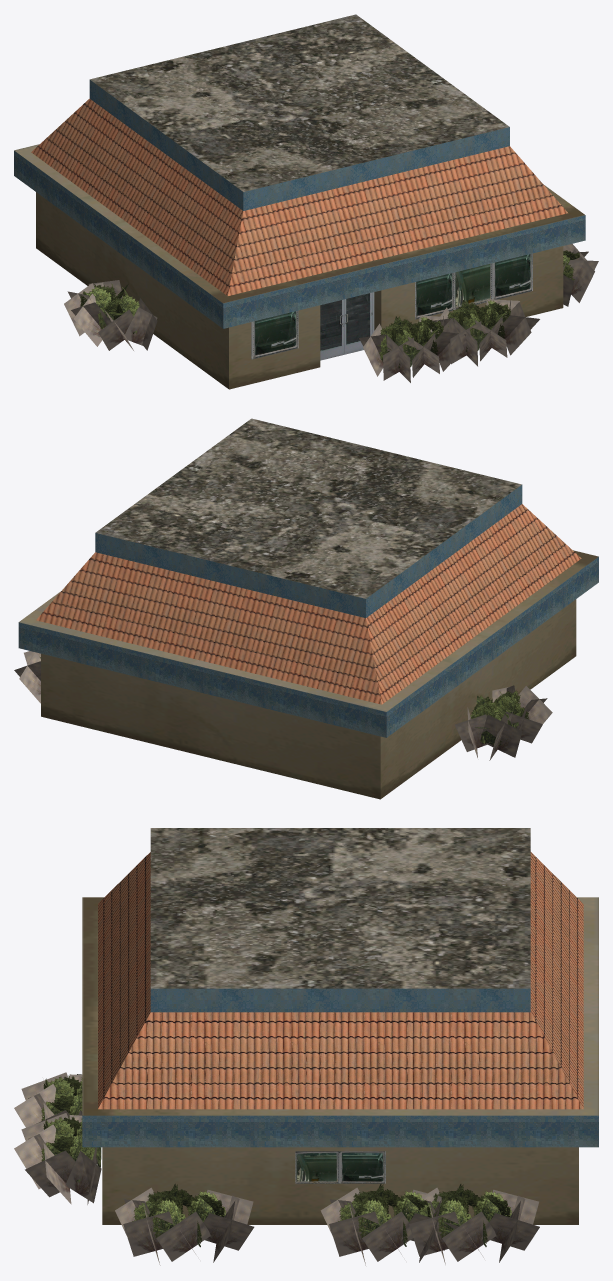
The model's file is cuntw_weebuild.obj.
3 renders of one model, top to bottom at view 1: azimuth 30°, elevation 25°; view 2: azimuth 150°, elevation 25°; view 3: azimuth 270°, elevation 25°, orthographic. The views are drawn at different scales.
Parts seen in each view (by area): view 1: cuntw_weebuild; view 2: cuntw_weebuild; view 3: cuntw_weebuild.
Boxes of the visible parts, x1,y1,x2,y2 form: cuntw_weebuild: (14, 14, 598, 389); cuntw_weebuild: (14, 418, 598, 799); cuntw_weebuild: (14, 828, 598, 1265).
Bounding box in the file's own units: 15 × 5.94 × 13.5.
8 materials, 8 textured.
